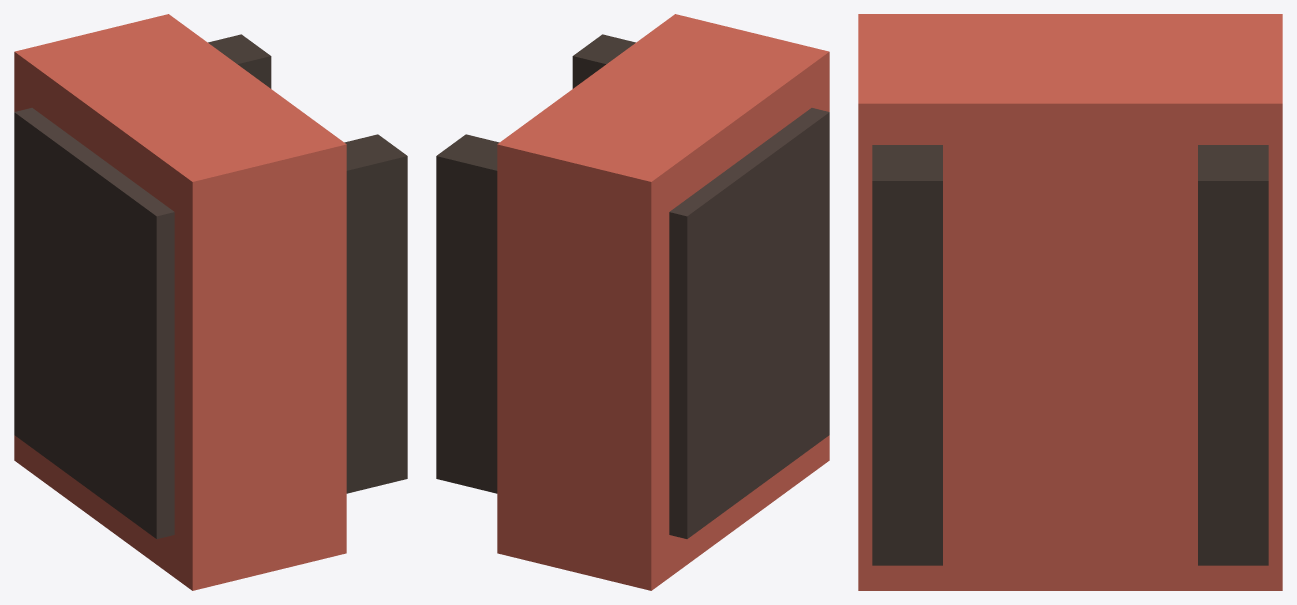
File: SM_Parachute_Pack.fbx
3 renders of one model, left to right at view 1: azimuth 30°, elevation 25°; view 2: azimuth 150°, elevation 25°; view 3: azimuth 270°, elevation 25°, orthographic. The views are drawn at different scales.
Parts seen in each view (by area): view 1: SM_Parachute_Pack; view 2: SM_Parachute_Pack; view 3: SM_Parachute_Pack.
Boxes of the visible parts, x1,y1,x2,y2 form: SM_Parachute_Pack: (14,14,407,590); SM_Parachute_Pack: (436,14,829,590); SM_Parachute_Pack: (858,14,1282,590).
Bounding box in the file's own units: 23.25 × 30 × 38.
